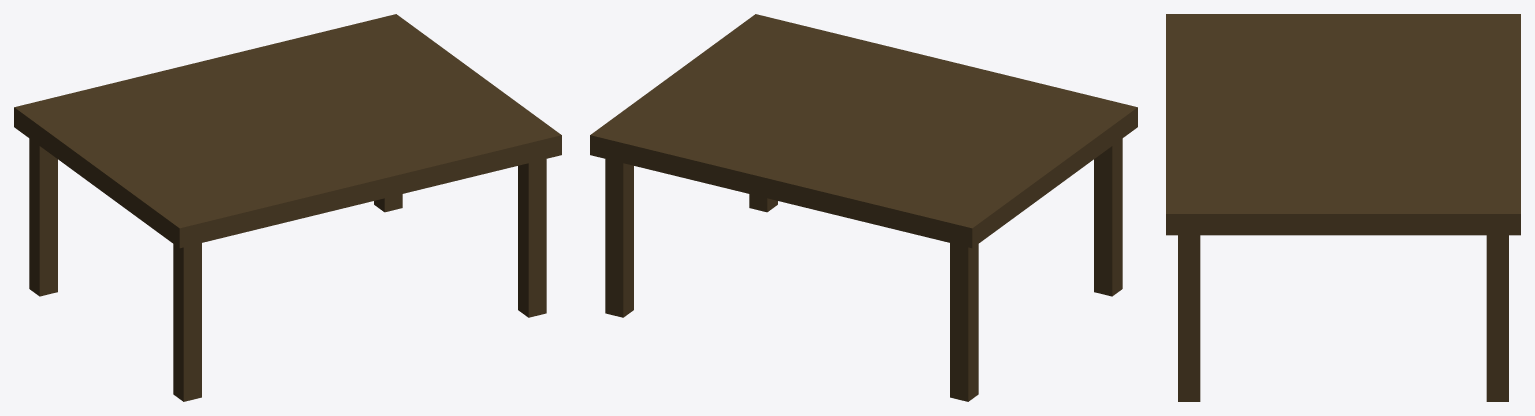
Rendered from DiningRoomTable.fbx.
The picture shows the model from 3 angles, left to right: view 1: azimuth 30°, elevation 25°; view 2: azimuth 150°, elevation 25°; view 3: azimuth 270°, elevation 25°; orthographic projection. The views are drawn at different scales.
Parts seen in each view (by area): view 1: Cube; view 2: Cube; view 3: Cube.
Boxes of the visible parts, x1,y1,x2,y2 form: Cube: (14,14,561,401); Cube: (590,14,1137,401); Cube: (1166,14,1520,401).
Size of the model in its own units: 800 by 360 by 600.
